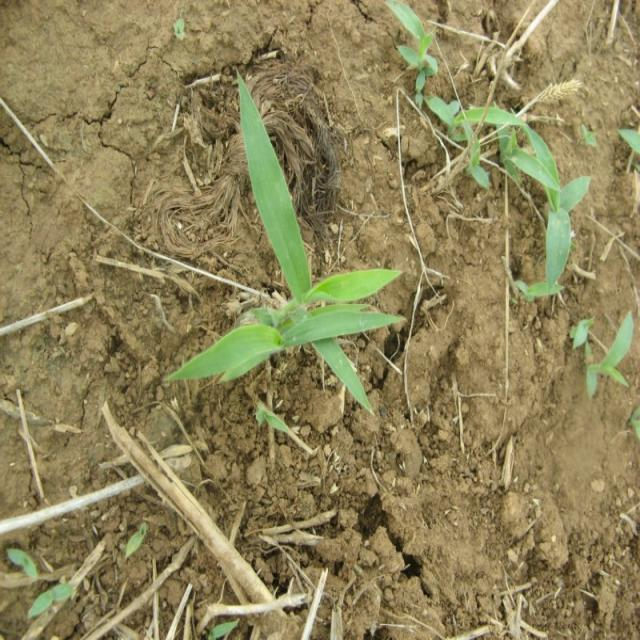bg: (170, 74, 406, 417)
